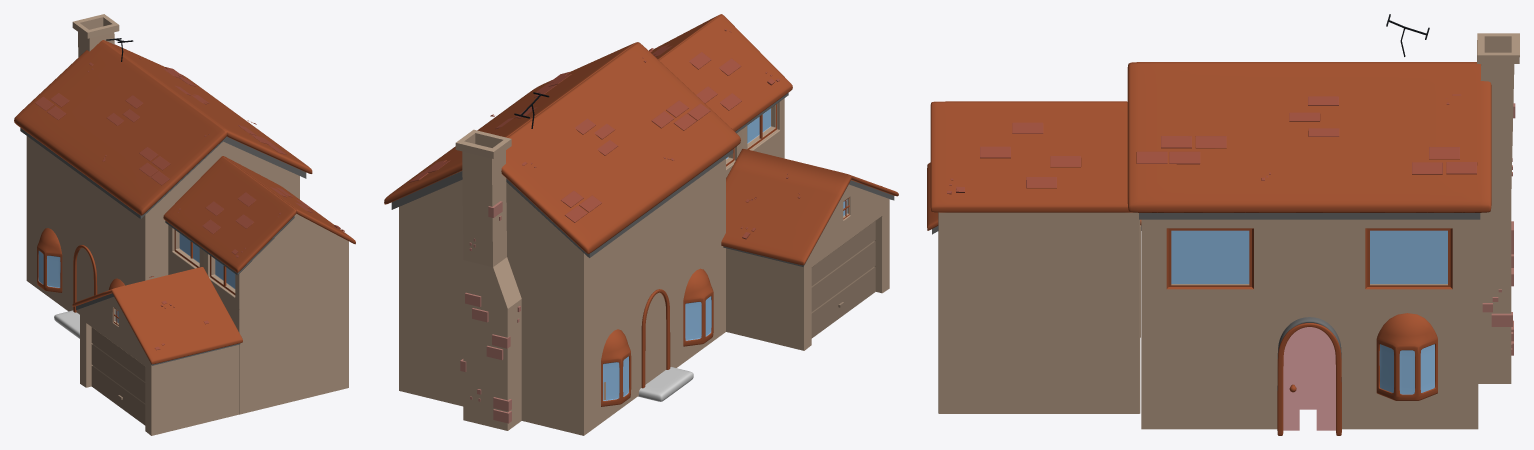
The model's file is House.fbx.
3 renders of one model, left to right at view 1: azimuth 30°, elevation 25°; view 2: azimuth 150°, elevation 25°; view 3: azimuth 270°, elevation 25°, orthographic. The views are drawn at different scales.
Parts seen in each view (by area): view 1: Plane.008; view 2: Plane.008; view 3: Plane.008, Window.001, Window.002, Window.003, Window.
Boxes of the visible parts, x1,y1,x2,y2 form: Plane.008: [14, 14, 355, 435]; Plane.008: [384, 14, 898, 435]; Plane.008: [927, 14, 1519, 435]; Window.001: [1171, 230, 1447, 283]; Window.002: [1399, 350, 1414, 394]; Window.003: [1420, 344, 1434, 392]; Window: [1379, 344, 1393, 392].
Bounding box in the file's own units: 700 × 456 × 460.
